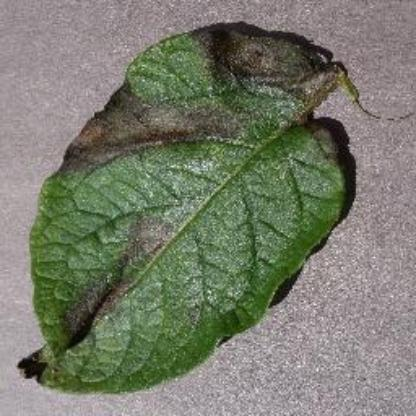Late-Blight: (12, 21, 364, 401)
